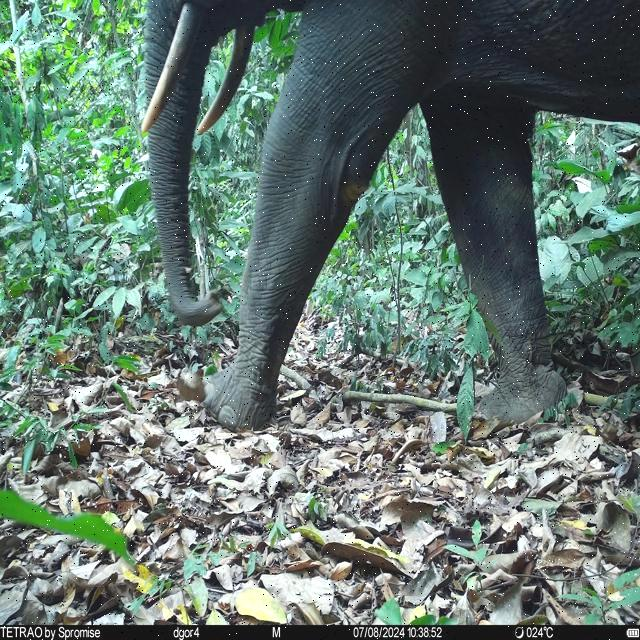elephant: (139, 2, 640, 434)
tusk: (139, 1, 203, 140), (196, 21, 256, 139)
